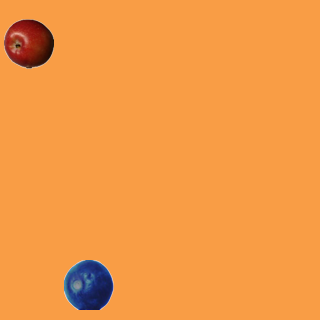Apple Braeburn: (3, 18, 53, 68)
Huckleberry: (63, 259, 113, 309)
